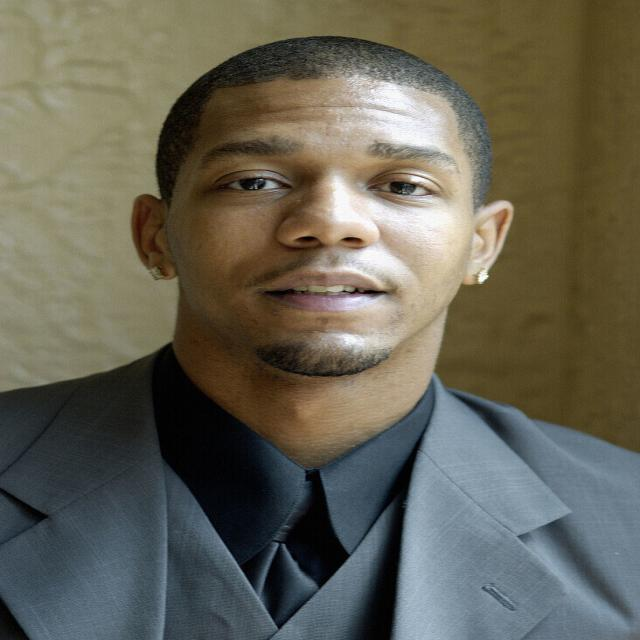sem_oculos: (115, 118, 529, 214)
